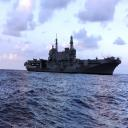Portanaves: (24, 33, 123, 77)
